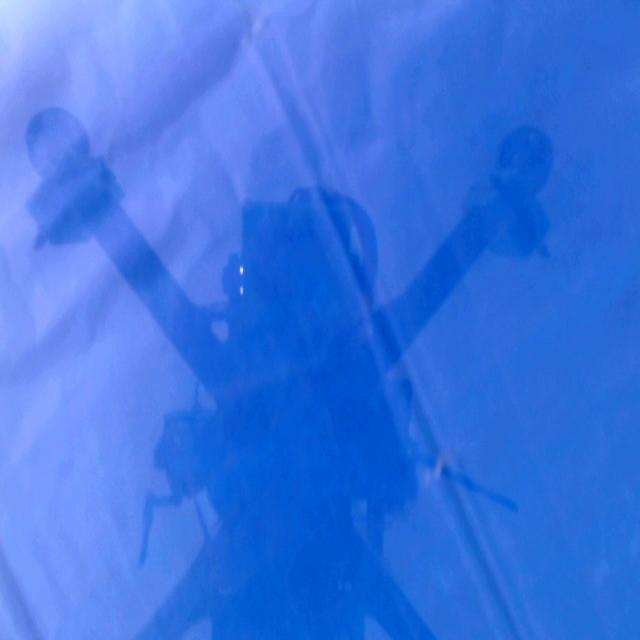blue_square: (1, 0, 640, 640)
